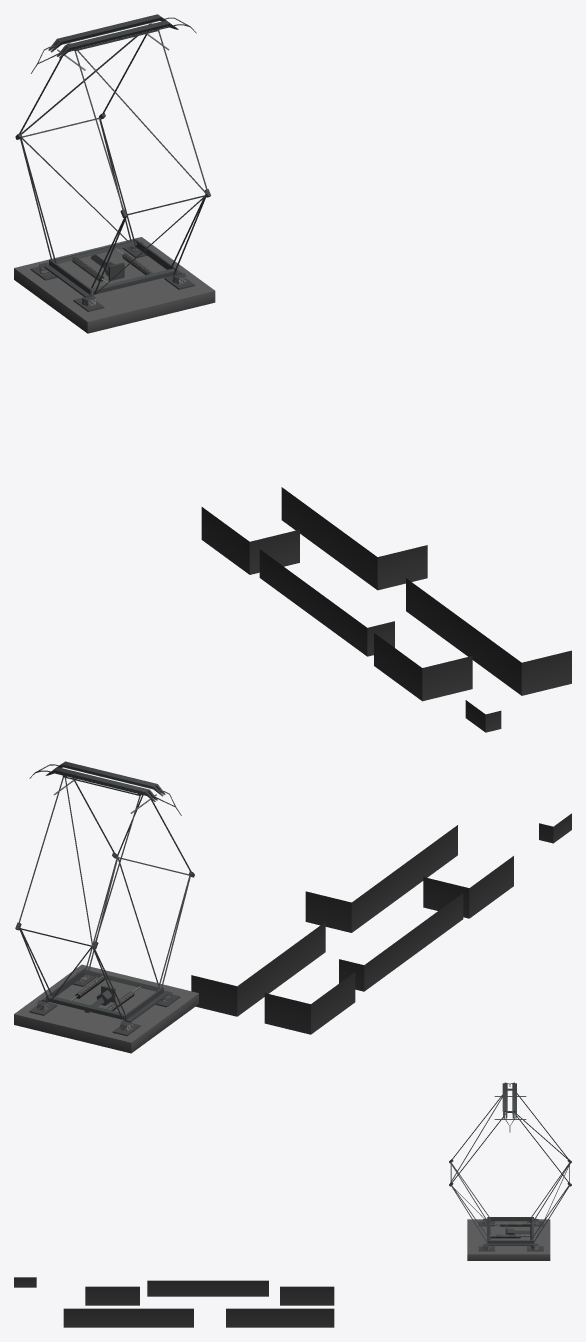
The model's file is 86_PANTA.glb.
The picture shows the model from 3 angles, top to bottom: view 1: azimuth 30°, elevation 25°; view 2: azimuth 150°, elevation 25°; view 3: azimuth 270°, elevation 25°; orthographic projection. The views are drawn at different scales.
Visible parts, largest first — view 1: PANTA; view 2: PANTA; view 3: PANTA.
Boxes of the visible parts, left/top/right/bottom form: PANTA: left=14, top=14, right=571, bottom=732; PANTA: left=14, top=761, right=571, bottom=1053; PANTA: left=14, top=1082, right=571, bottom=1327.
Bounding box in the file's own units: 5.21 × 11.31 × 26.84.
3 materials, 3 textured.
